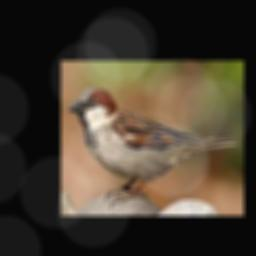Sparrow: (69, 87, 241, 206)
